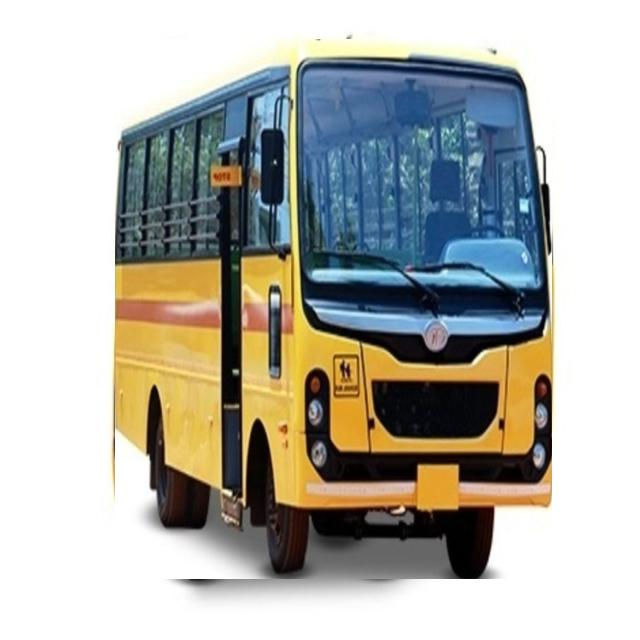bus: (115, 39, 552, 579)
